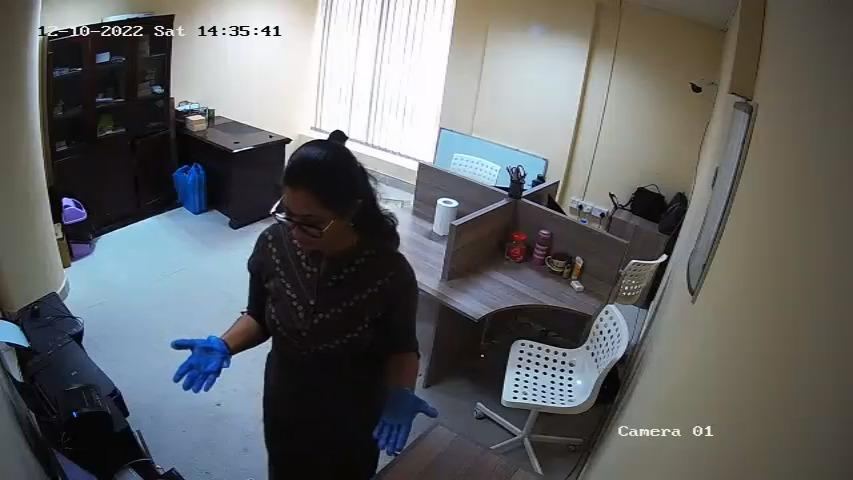gloves: (363, 385, 440, 454), (166, 333, 235, 398)
